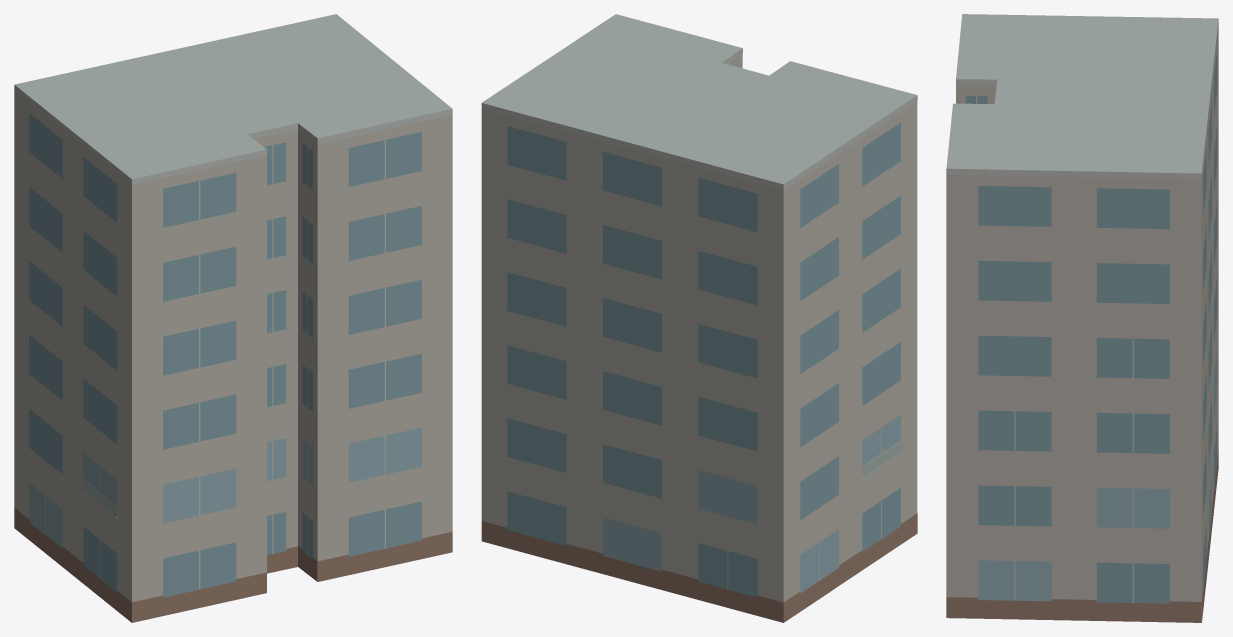
The model's file is survey-upis-32653454.glb.
3 views of the same model, side by side, from view 1: azimuth 30°, elevation 25°; view 2: azimuth 150°, elevation 25°; view 3: azimuth 270°, elevation 25° (orthographic). The views are drawn at different scales.
Visible parts, largest first — view 1: survey-upis-32653454.tmp; view 2: survey-upis-32653454.tmp; view 3: survey-upis-32653454.tmp.
Part boxes in pixels (x1=…): survey-upis-32653454.tmp: x1=14, y1=14, x2=452, y2=622; survey-upis-32653454.tmp: x1=481, y1=14, x2=917, y2=622; survey-upis-32653454.tmp: x1=946, y1=14, x2=1218, y2=622.
Size of the model in its own units: 13.94 by 18.3 by 10.05.
